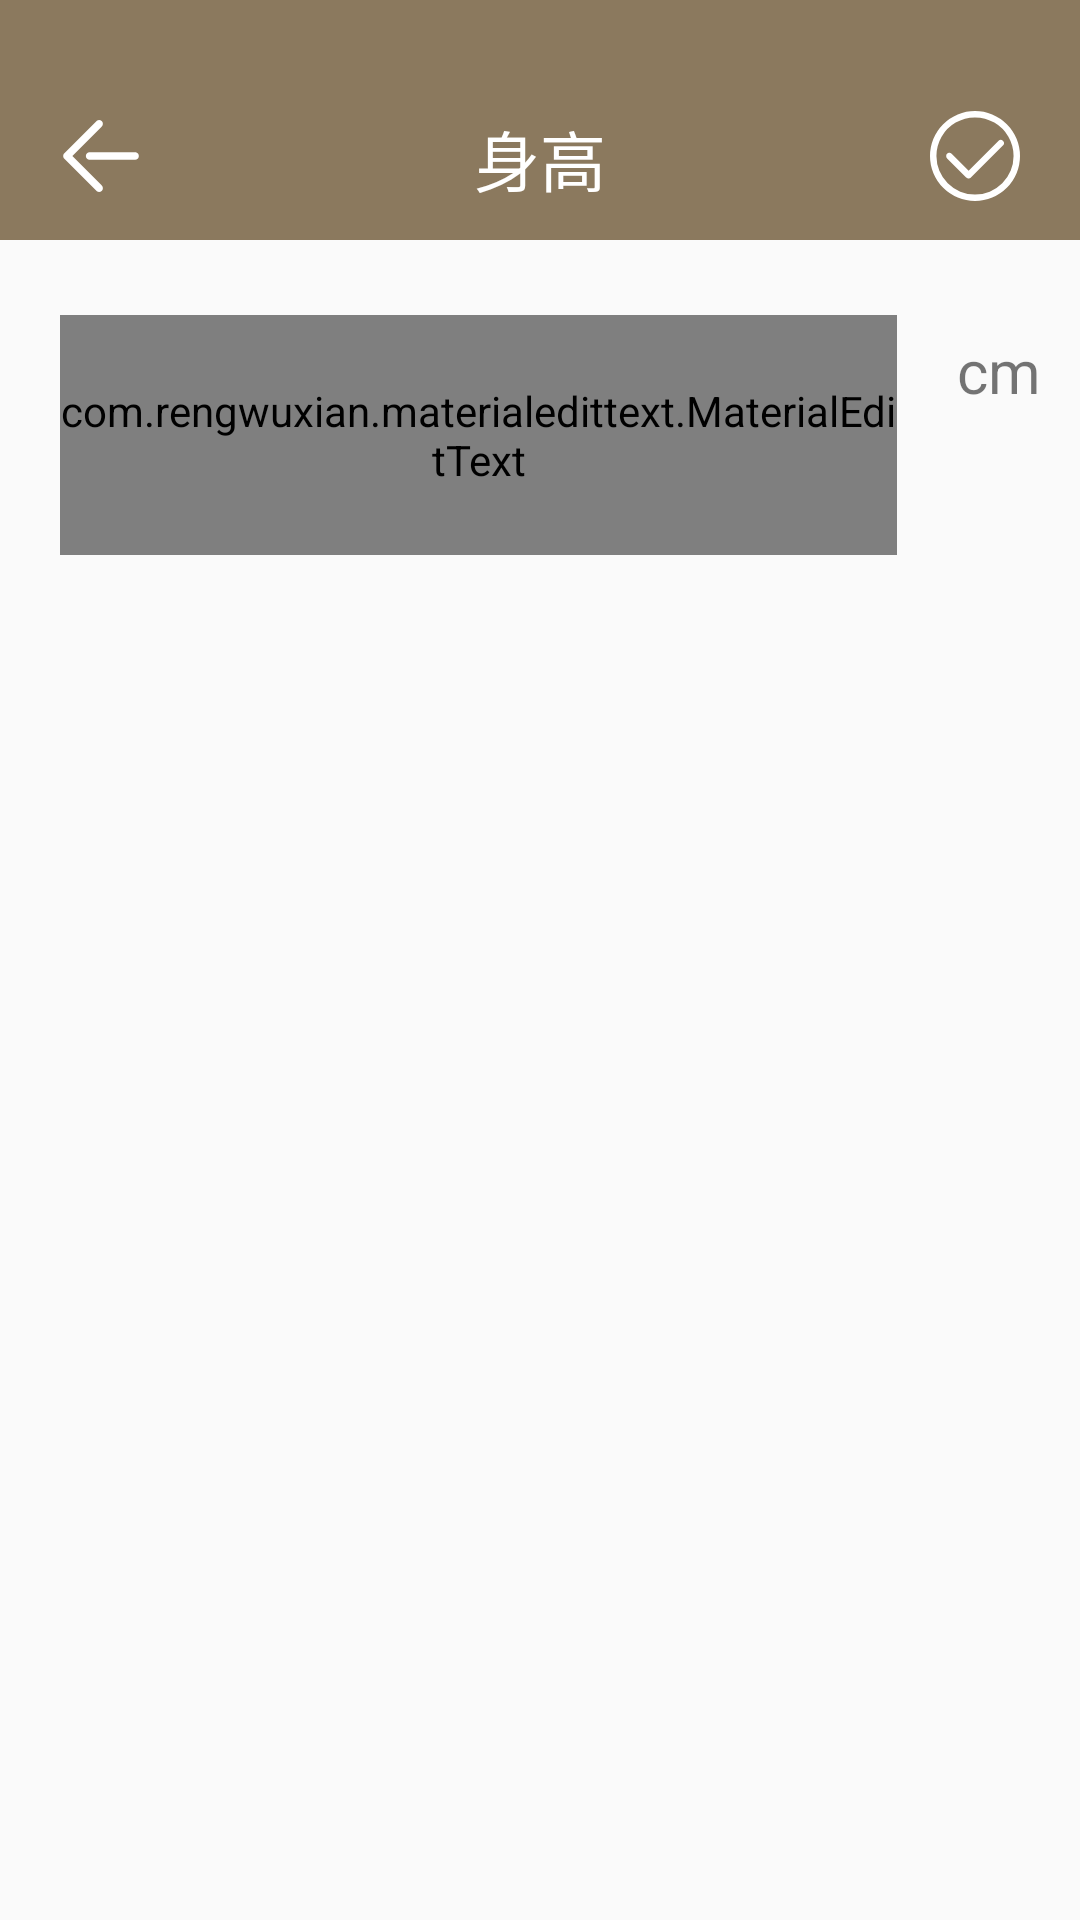

Screen size 1080px×1920px. Icon name, then its center in pixels as (x=x, y=y):
back: (x=101, y=156)
save: (x=975, y=156)
